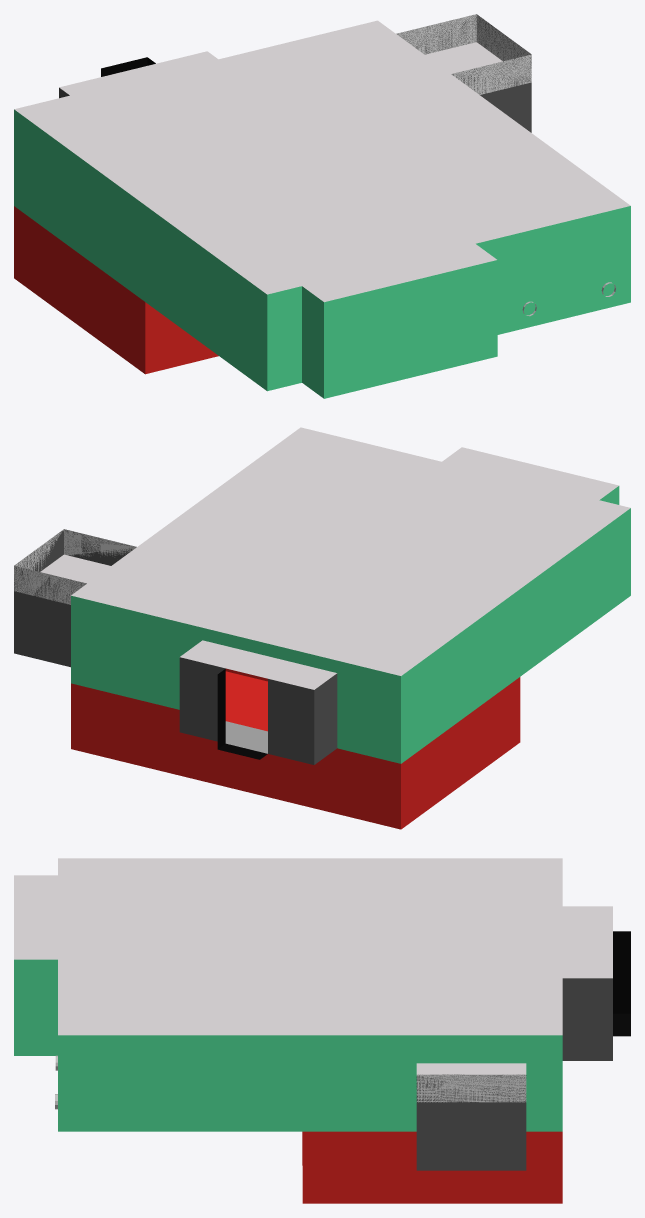
Rendered from Room002.fbx.
3 views of the same model, one above another, from view 1: azimuth 30°, elevation 25°; view 2: azimuth 150°, elevation 25°; view 3: azimuth 270°, elevation 25° (orthographic). The views are drawn at different scales.
Parts seen in each view (by area): view 1: 0_Room; view 2: 0_Room; view 3: 0_Room.
Boxes of the visible parts, bbox=[...] form: 0_Room: bbox=[14, 14, 630, 398]; 0_Room: bbox=[14, 427, 630, 829]; 0_Room: bbox=[14, 858, 630, 1203].
Bounding box in the file's own units: 2027 × 737 × 2445.
